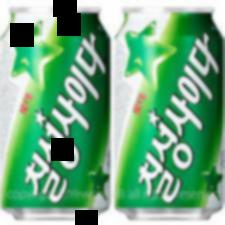chilsungcider: (1, 3, 114, 224), (114, 5, 224, 224)
